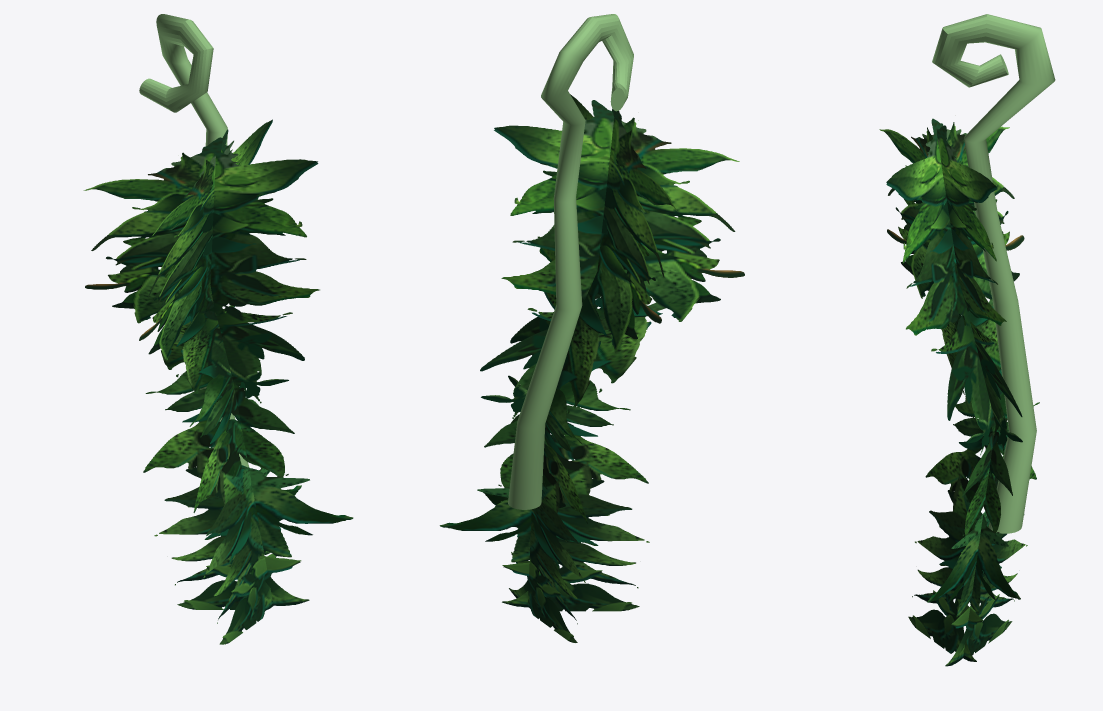
Rendered from vines2-1-2.fbx.
3 views of the same model, side by side, from view 1: azimuth 30°, elevation 25°; view 2: azimuth 150°, elevation 25°; view 3: azimuth 270°, elevation 25° (orthographic). The views are drawn at different scales.
Parts seen in each view (by area): view 1: polySurface25; view 2: polySurface25; view 3: polySurface25.
Boxes of the visible parts, bbox=[...] form: polySurface25: bbox=[83, 14, 353, 644]; polySurface25: bbox=[439, 14, 744, 642]; polySurface25: bbox=[879, 14, 1055, 666].
Bounding box in the file's own units: 2.94 × 5.59 × 2.07.
